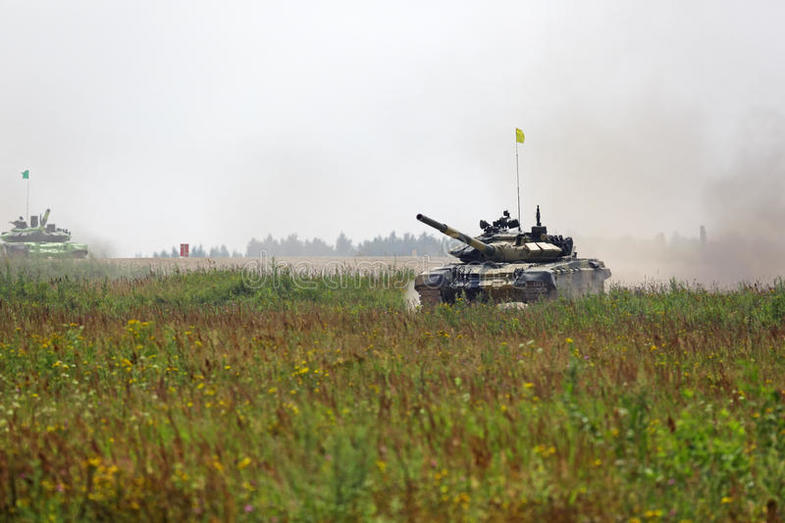t72: (412, 208, 604, 312)
